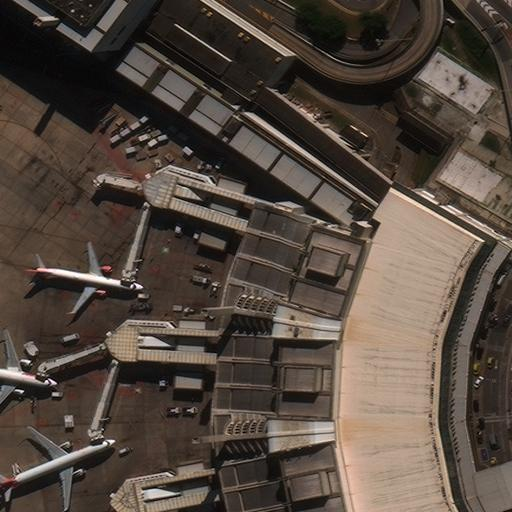Medium Civil Transport: (0, 426, 115, 506), (30, 249, 143, 310), (0, 329, 57, 412)
